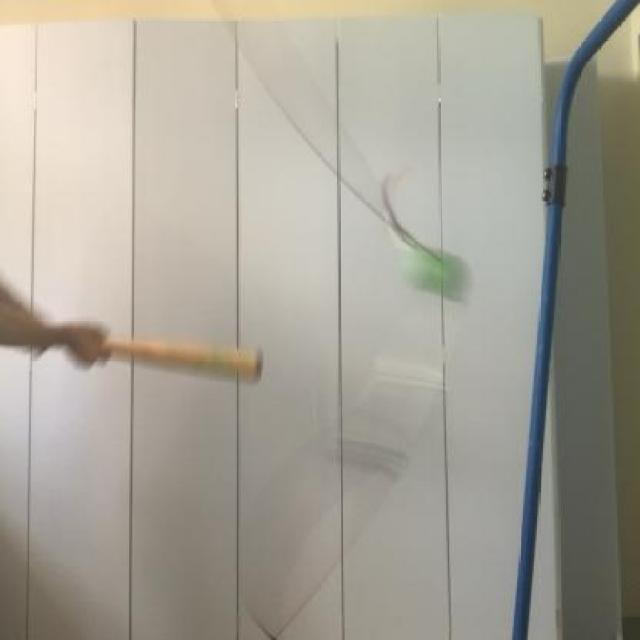baseball: (390, 223, 487, 312)
